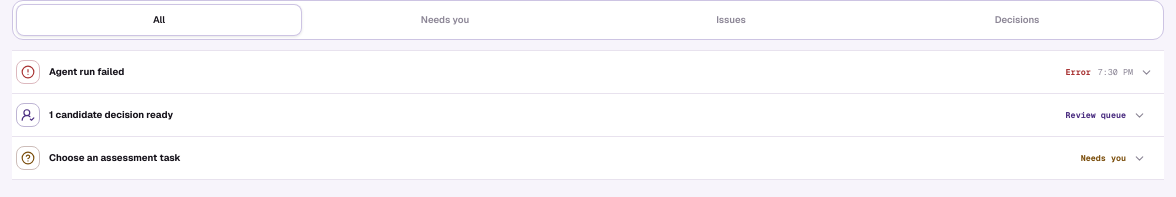
Test: AgentFeedTimeline › filters needs, issues, and decisions without expanding history
The image size is (1176, 197).
Expected: the element named "Filter agent feed" is shown, [12,0,1164,40]
Step 1. Click the button "Issues" → (731, 20), box [588,4,874,36]
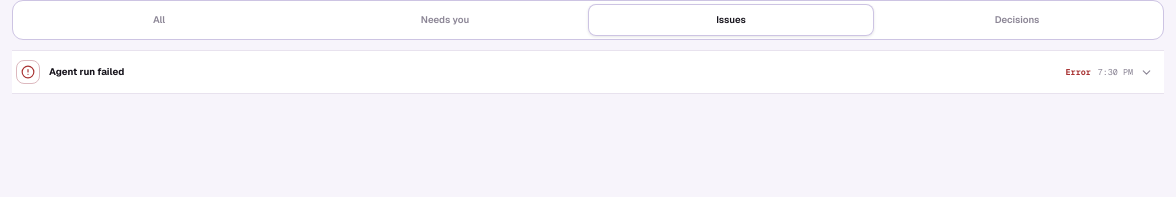
Expected: the text "Agent run failed" is shown, [49,65,124,78]
Expected: the button "Choose an assessment task" is gone
Step 2. Click the button "Decisions" → (1017, 20), box [874,4,1160,36]
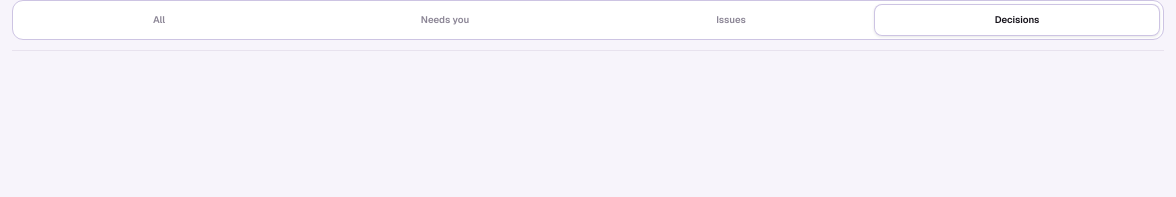
Expected: the button "Agent run failed" is gone
